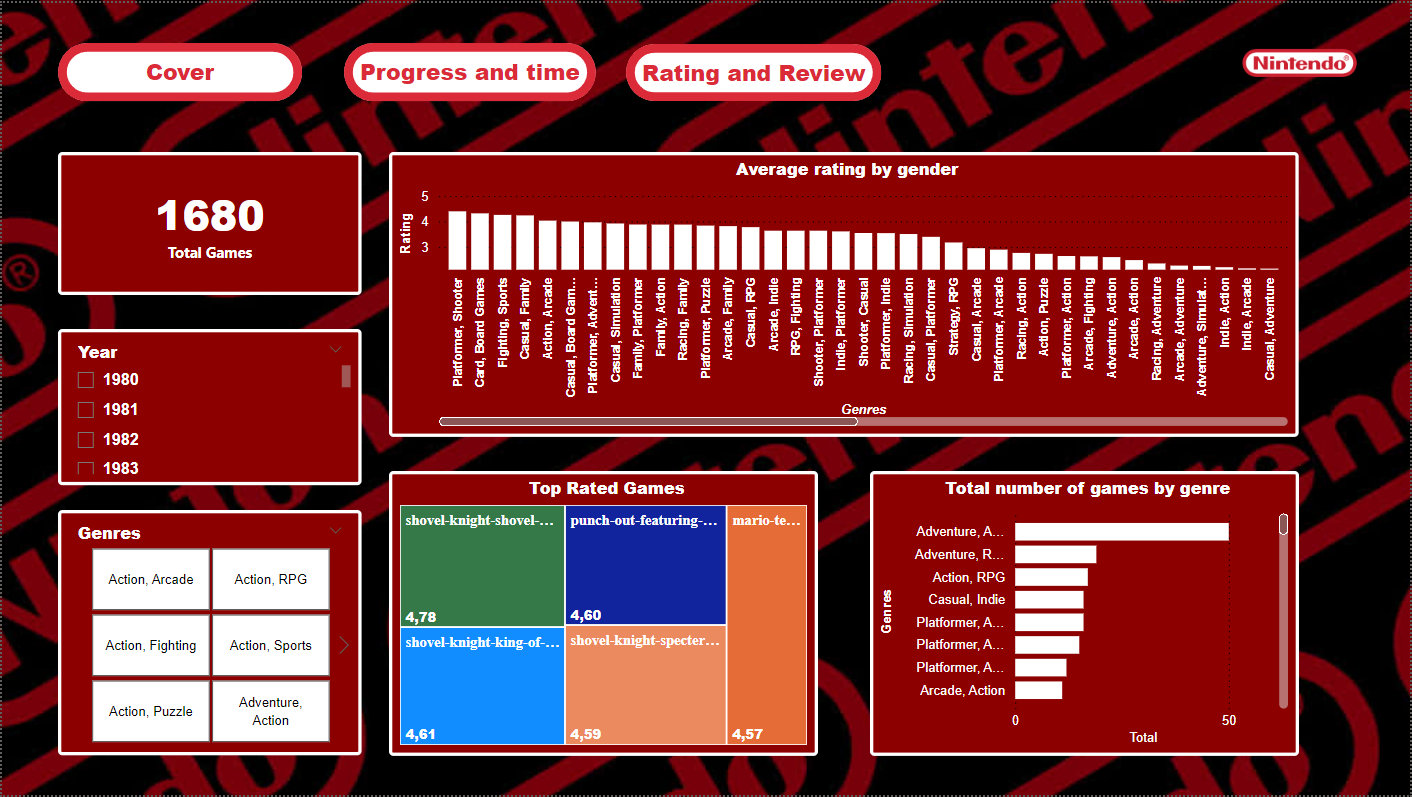

The page's visual inventory and layout, read from the dashboard file:
{"tool":"powerbi","page":{"name":"General Analysis","canvas":[1280,720],"ordinal":1},"visuals":[{"type":"card","fields":{"Values":["Medidas.TotalJuegos"]},"box":[50.9,137.1,276,130],"z":0},{"type":"barChart","title":"Total number of games by genre","fields":{"Category":["GAME_TAGS_GENRE.genres"],"Y":["Medidas.TotalJuegosPorGenero"]},"box":[789,425,390,259],"z":0},{"type":"columnChart","title":"Average rating by gender","fields":{"Y":["Avg(RATINGS.rating)"],"Category":["GAME_TAGS_GENRE.genres"]},"box":[351.9,137.1,827,259],"z":1000},{"type":"treemap","title":"Top Rated Games","fields":{"Values":["Sum(RATINGS.rating)"],"Group":["GAMES.slug"]},"box":[352,425,390,259],"z":1000},{"type":"image","box":[1078,0,202,108],"z":2000},{"type":"actionButton","box":[50.9,36.2,228.6,52.6],"z":3000},{"type":"actionButton","box":[314.8,36.2,232,51.8],"z":4000},{"type":"slicer","fields":{"Values":["Calendario.Year"]},"box":[50.8,298,276,98.3],"z":5000},{"type":"slicer","fields":{"Values":["GAME_TAGS_GENRE.genres"]},"box":[50.8,427.3,276,258.8],"z":6000}]}

Visuals, with their boxes in screenshot pixels (x1, y1, x2, y2), scaled from the page's 1280x720 canvas onto the 1412x797 screenshot:
card - Medidas.TotalJuegos: detection(56, 152, 361, 296)
"Total number of games by genre" barChart: detection(870, 470, 1301, 757)
"Average rating by gender" columnChart: detection(388, 152, 1300, 438)
"Top Rated Games" treemap: detection(388, 470, 819, 757)
image: detection(1189, 0, 1411, 120)
actionButton: detection(56, 40, 308, 98)
actionButton: detection(347, 40, 603, 97)
slicer - Calendario.Year: detection(56, 330, 361, 439)
slicer - GAME_TAGS_GENRE.genres: detection(56, 473, 361, 759)
